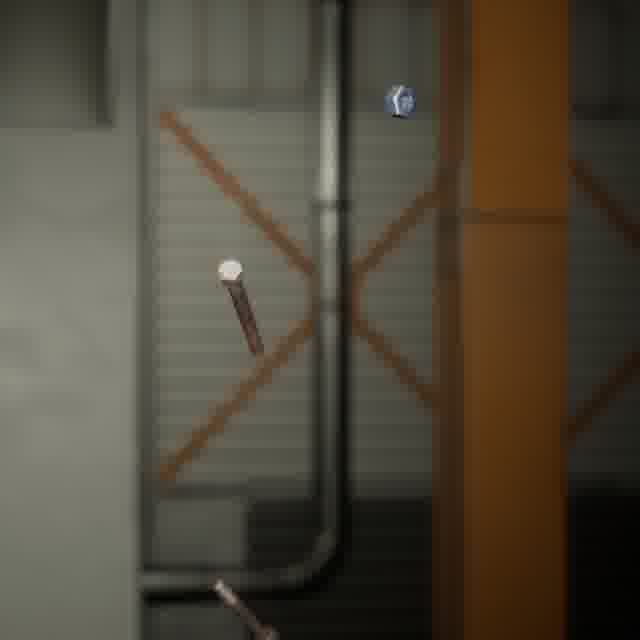bolt: (211, 255, 268, 362), (207, 573, 283, 640)
nut: (380, 81, 420, 122)
